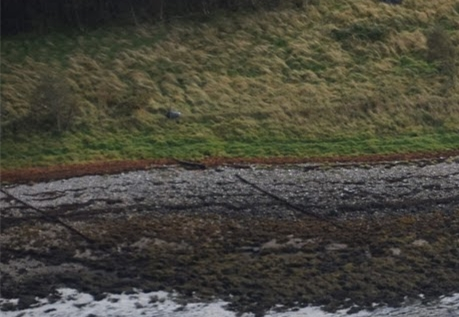tube: (235, 174, 274, 197), (276, 195, 315, 217), (3, 191, 37, 210), (41, 207, 75, 226), (170, 153, 207, 170), (68, 227, 101, 244)
white_in_green: (154, 95, 195, 128)
